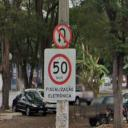NoVirarU: (52, 21, 72, 50)
speed_limit_50: (47, 53, 72, 86)
